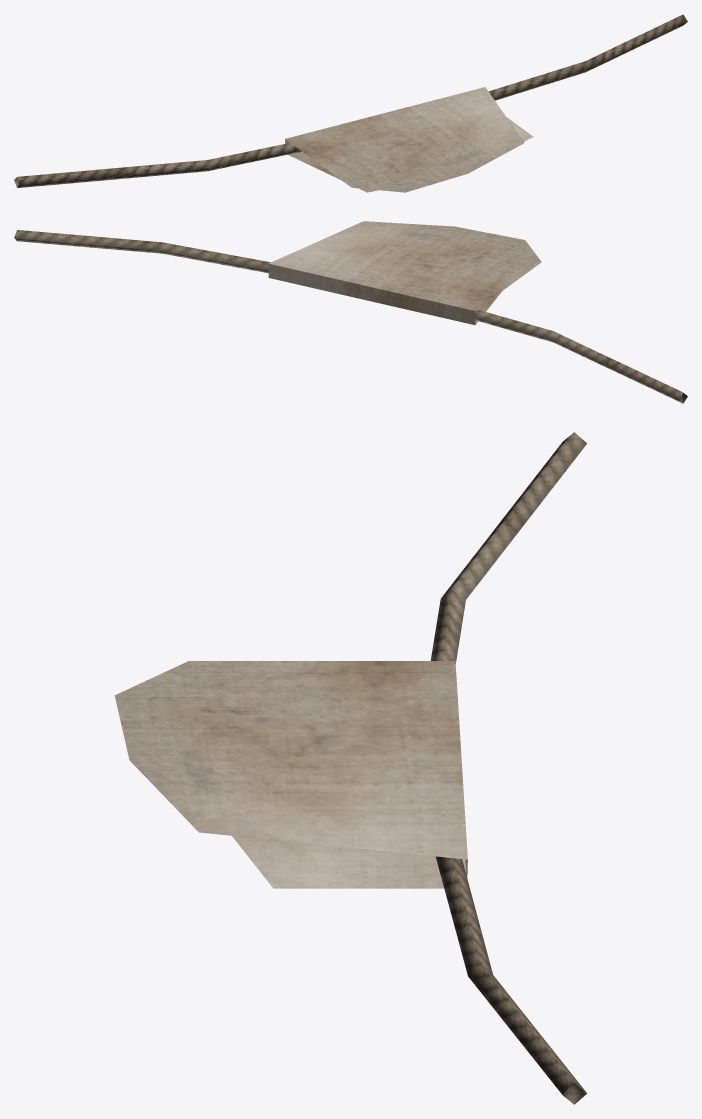
Rendered from Clothe_Line_Short_C.fbx.
3 renders of one model, top to bottom at view 1: azimuth 30°, elevation 25°; view 2: azimuth 150°, elevation 25°; view 3: azimuth 270°, elevation 25°, orthographic. The views are drawn at different scales.
Parts seen in each view (by area): view 1: Clothe_Line_Short_C; view 2: Clothe_Line_Short_C; view 3: Clothe_Line_Short_C.
Part boxes in pixels (left/top/right/bottom): Clothe_Line_Short_C: left=14, top=14, right=687, bottom=192; Clothe_Line_Short_C: left=14, top=221, right=687, bottom=403; Clothe_Line_Short_C: left=114, top=432, right=586, bottom=1104.
Size of the model in its own units: 3.22 by 0.0664 by 0.9839.
